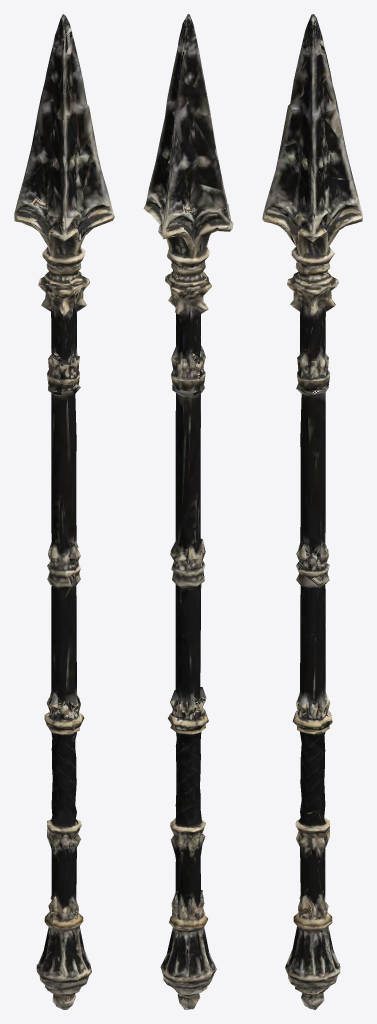
Rendered from lance-black.glb.
3 views of the same model, side by side, from view 1: azimuth 90°, elevation 25°; view 2: azimuth 150°, elevation 25°; view 3: azimuth 270°, elevation 25° (orthographic).
Visible parts, largest first — view 1: Lance; view 2: Lance; view 3: Lance.
Part boxes in pixels (x1,y1,x2,y2): Lance: [14, 14, 114, 1009]; Lance: [143, 14, 233, 1009]; Lance: [262, 14, 362, 1009].
Size of the model in its own units: 0.2435 by 2.7 by 0.2469.
Materials: 1 (1 with a texture image).
